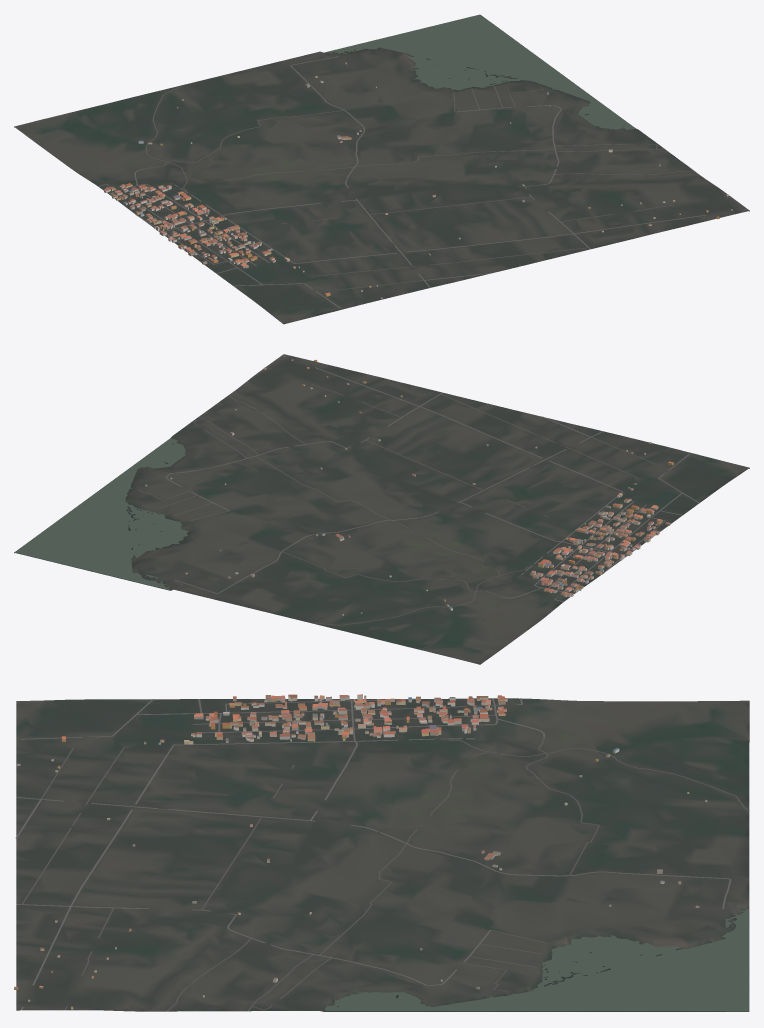
The picture shows the model from 3 angles, top to bottom: view 1: azimuth 30°, elevation 25°; view 2: azimuth 150°, elevation 25°; view 3: azimuth 270°, elevation 25°; orthographic projection. The views are drawn at different scales.
Visible parts, largest first — view 1: ground, water, roads, buildings; view 2: ground, water, roads, buildings; view 3: ground, water, roads, buildings.
Part boxes in pixels (x1,y1,x2,y2): ground: [14, 15, 749, 324]; water: [326, 14, 635, 130]; roads: [98, 56, 747, 308]; buildings: [104, 62, 732, 299]; ground: [14, 354, 749, 664]; water: [15, 438, 188, 589]; roads: [139, 355, 699, 625]; buildings: [144, 359, 673, 615]; ground: [16, 698, 749, 1011]; water: [325, 909, 748, 1011]; roads: [15, 698, 749, 1011]; buildings: [14, 694, 707, 1009].
Bounding box in the file's own units: 1406 × 21.77 × 1407.
